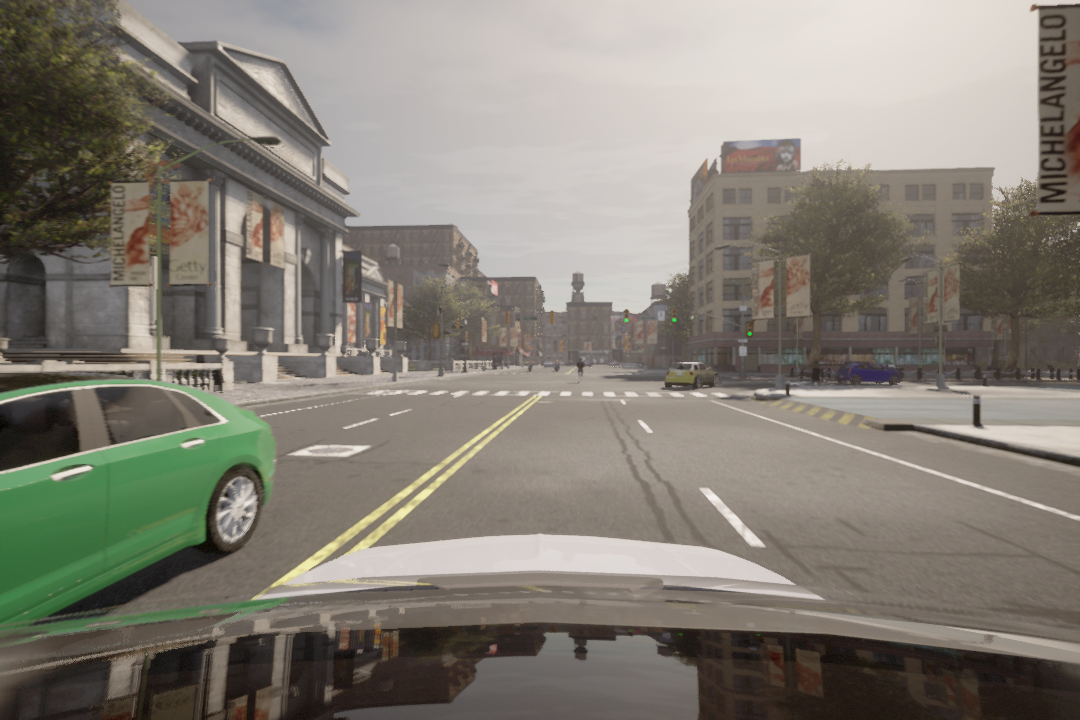TrafficLight: (745, 320, 754, 338), (670, 307, 679, 324), (621, 309, 628, 324)
walkside: (354, 387, 753, 400)
